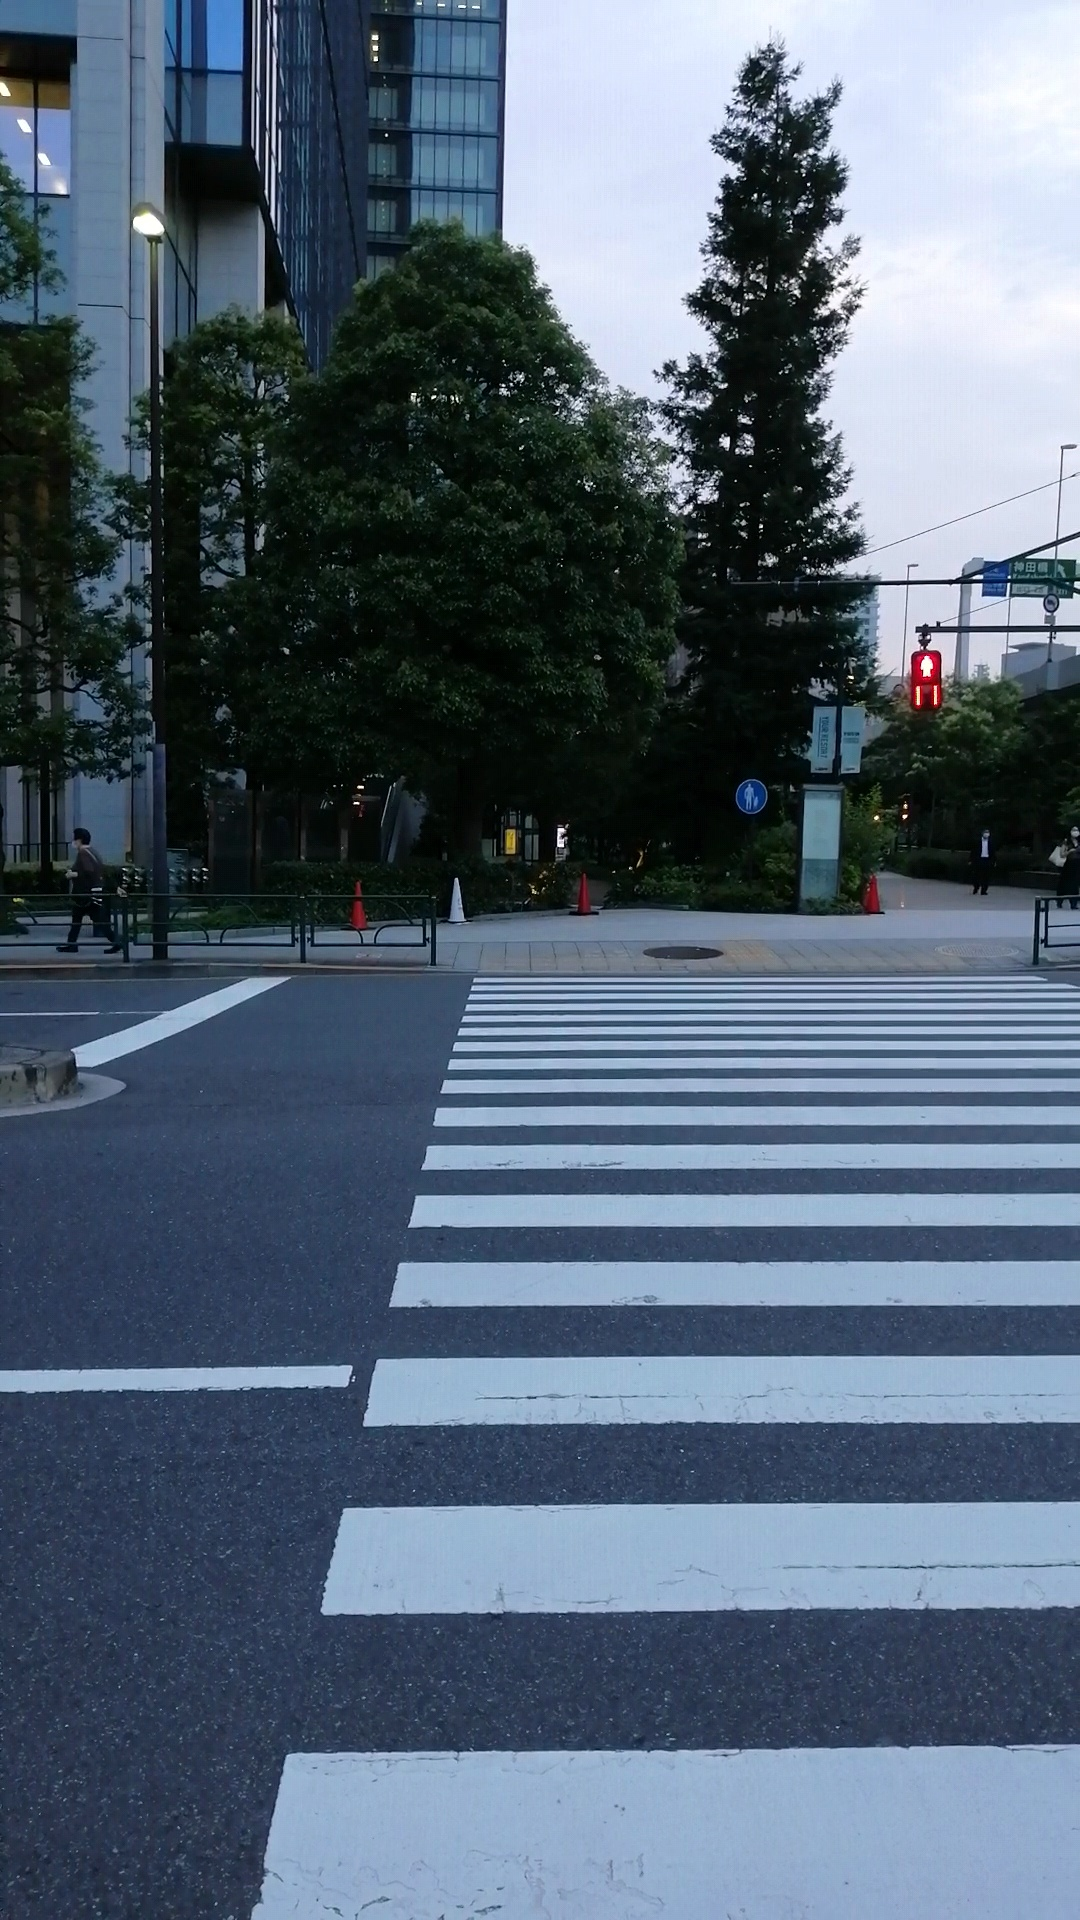red: (910, 649, 942, 711)
